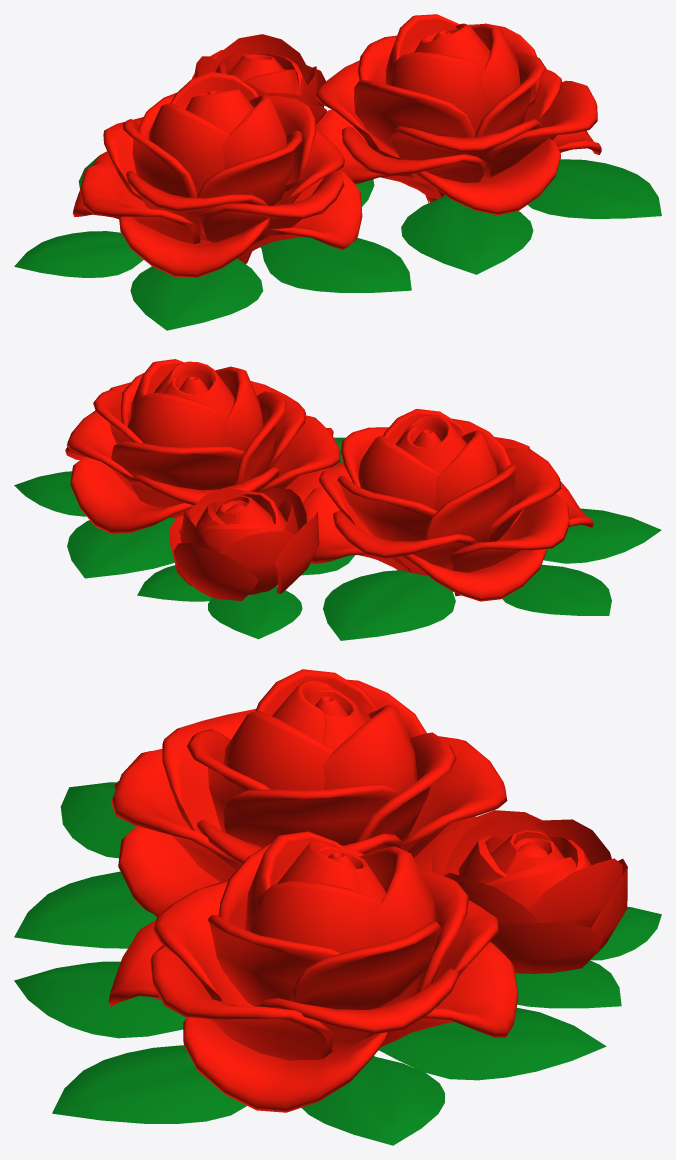
Rendered from Cake_ThemeFLowers_C.FBX.
The picture shows the model from 3 angles, top to bottom: view 1: azimuth 30°, elevation 25°; view 2: azimuth 150°, elevation 25°; view 3: azimuth 270°, elevation 25°; orthographic projection. The views are drawn at different scales.
Parts seen in each view (by area): view 1: Cake_ThemeFLowers_C; view 2: Cake_ThemeFLowers_C; view 3: Cake_ThemeFLowers_C.
Boxes of the visible parts, x1,y1,x2,y2 form: Cake_ThemeFLowers_C: [14, 14, 661, 330]; Cake_ThemeFLowers_C: [14, 359, 661, 640]; Cake_ThemeFLowers_C: [14, 669, 661, 1145].
Size of the model in its own units: 109104 by 30195 by 76130.
